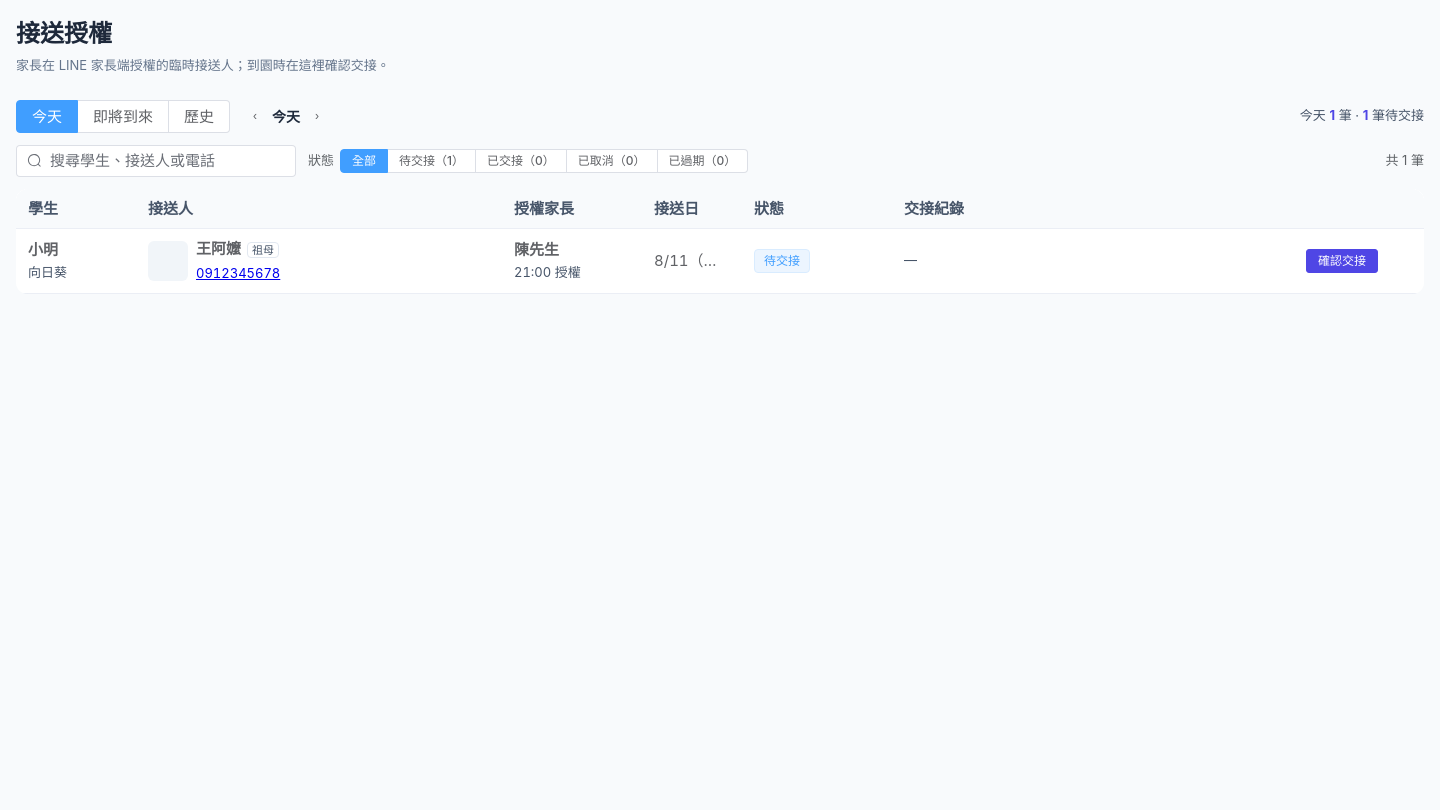
Test: PickupAuthorizationsView (admin) › 彈窗打開時取件碼輸入框自動聚焦
Click the button "確認交接". click: (1342, 261)
box: [1306,249,1378,273]
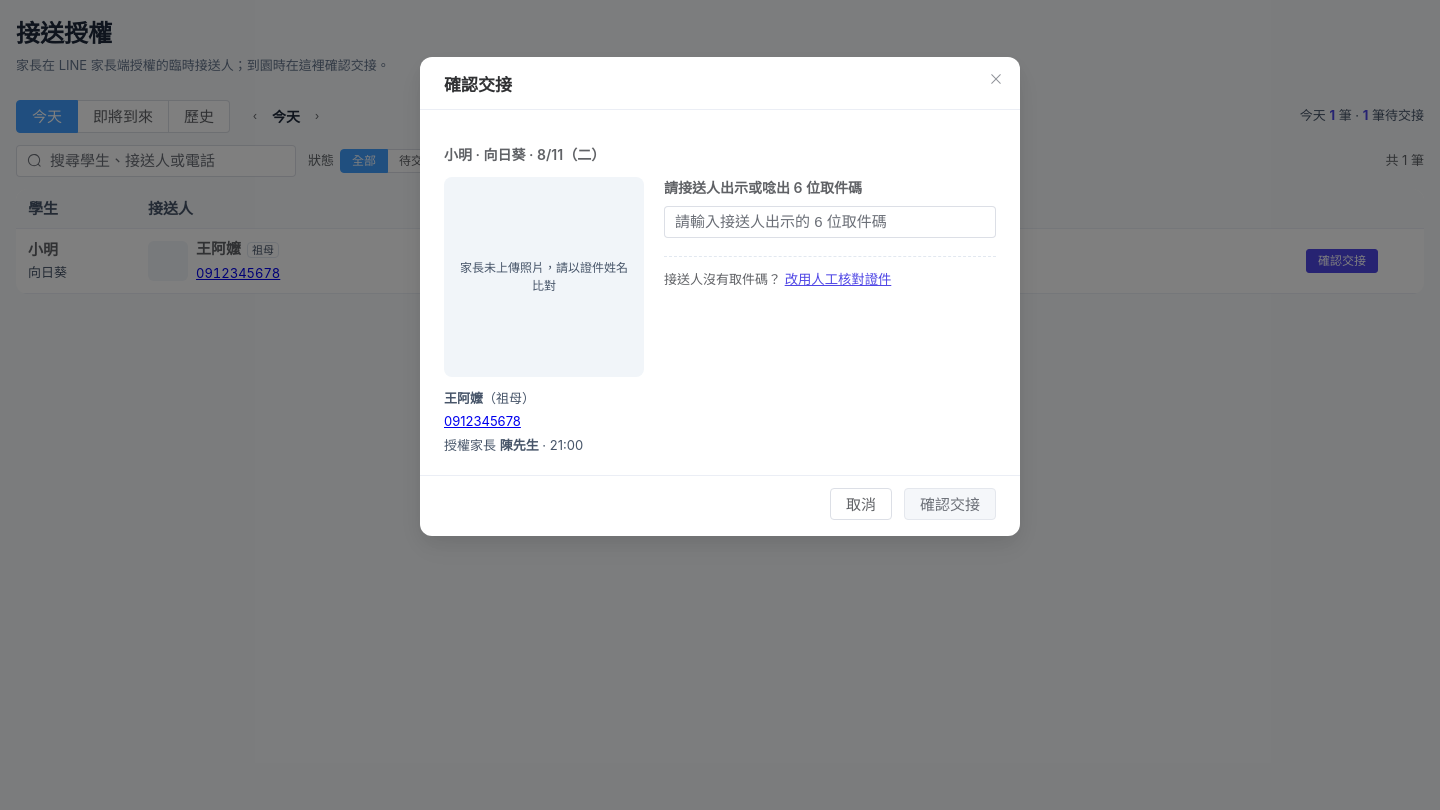
Expected: the field with placeholder "請輸入接送人出示的 6 位取件碼" is shown, [675,207,985,237]
